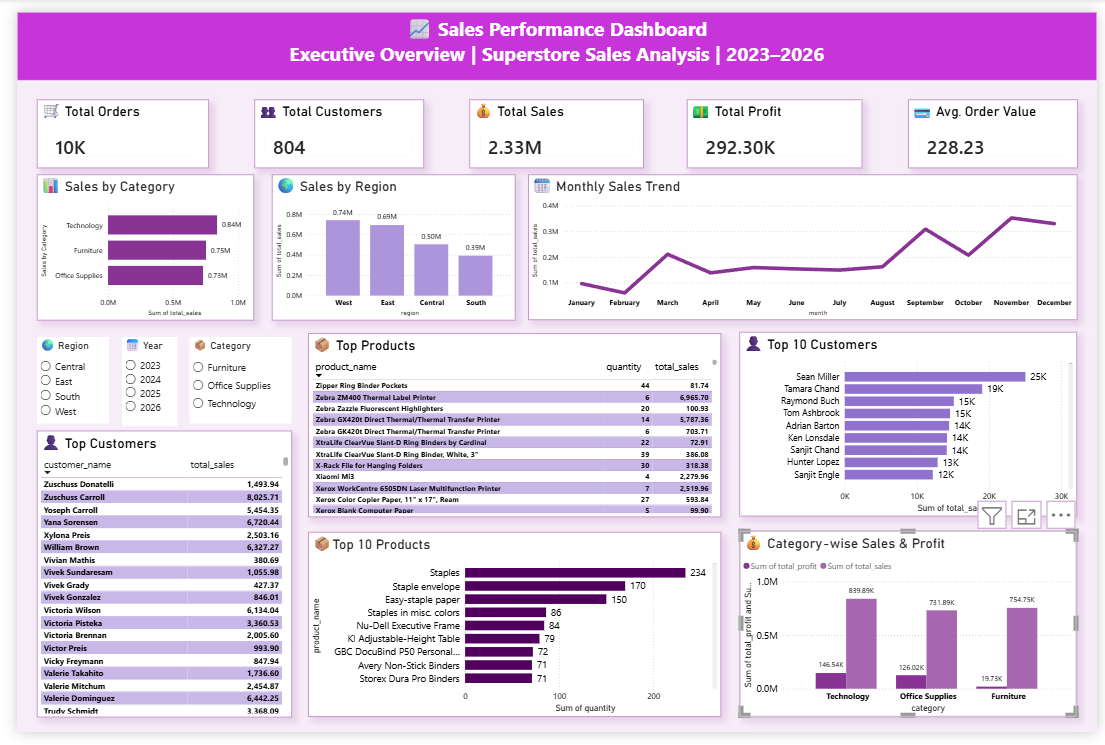

The page's visual inventory and layout, read from the dashboard file:
{"tool":"powerbi","page":{"name":"Executive Dashboard","canvas":[1800,1200],"ordinal":0},"visuals":[{"type":"cardVisual","title":"🛒 Total Orders","fields":{"Data":["Sum(public vw_kpi_summary.total_orders)"]},"box":[32.5,145,286,114],"z":0},{"type":"cardVisual","title":"👥 Total Customers","fields":{"Data":["Sum(public vw_kpi_summary.total_customers)"]},"box":[395,145,282,114],"z":1000},{"type":"cardVisual","title":"💰 Total Sales","fields":{"Data":["Sum(public vw_kpi_summary.total_sales)"]},"box":[755,145,290,114],"z":2000},{"type":"cardVisual","title":"💵 Total Profit","fields":{"Data":["Sum(public vw_kpi_summary.total_profit)"]},"box":[1117.5,145,292,114],"z":3000},{"type":"cardVisual","title":"💳 Avg. Order Value","fields":{"Data":["Sum(public vw_kpi_summary.average_order_value)"]},"box":[1485,145,282,114],"z":4000},{"type":"clusteredBarChart","title":"📊 Sales by Category","fields":{"Category":["public vw_category_sales.category"],"Y":["Sum(public vw_category_sales.total_sales)"]},"box":[32.5,270,361.4,242.9],"z":5000},{"type":"clusteredColumnChart","title":"🌍 Sales by Region","fields":{"Category":["public vw_region_sales.region"],"Y":["Sum(public vw_region_sales.total_sales)"]},"box":[425,270,405.7,242.9],"z":6000},{"type":"lineChart","title":"🗓️ Monthly Sales Trend","fields":{"Category":["public vw_monthly_sales.month"],"Y":["Sum(public vw_monthly_sales.total_sales)"]},"box":[852.5,270,915,242.5],"z":7000},{"type":"textbox","box":[0,0,1800,114],"z":8000},{"type":"listSlicer","title":"🌍 Region","fields":{"Values":["public vw_region_sales.region"]},"box":[32.5,542.5,120,144],"z":9000},{"type":"listSlicer","title":"📦 Category","fields":{"Values":["public vw_category_sales.category"]},"box":[287.5,542.5,170,144],"z":10000},{"type":"tableEx","title":"👤 Top Customers","fields":{"Values":["public vw_customer_ranking.customer_name","public vw_customer_ranking.total_sales"]},"box":[32.5,697.5,425,477.5],"z":11000},{"type":"tableEx","title":"📦 Top Products","fields":{"Values":["public vw_product_sales.product_name","public vw_product_sales.quantity","public vw_product_sales.total_sales"]},"box":[485,535,688,306],"z":12000},{"type":"clusteredBarChart","title":"👤 Top 10 Customers","fields":{"Y":["Sum(public vw_customer_ranking.total_sales)"],"Category":["public vw_customer_ranking.customer_name"]},"box":[1205,532.5,562.5,307.5],"z":13000},{"type":"clusteredBarChart","title":"📦Top 10 Products","fields":{"Category":["public vw_product_sales.product_name"],"Y":["Sum(public vw_product_sales.quantity)"]},"box":[485,867.5,688,308],"z":14000},{"type":"clusteredColumnChart","title":"💰 Category-wise Sales & Profit","fields":{"Category":["public vw_category_sales.category"],"Y":["Sum(public vw_category_sales.total_profit)","Sum(public vw_category_sales.total_sales)"]},"box":[1205,865,562,310],"z":15000},{"type":"listSlicer","title":"📅 Year","fields":{"Values":["public sales.order_date.Variation.Date Hierarchy.Year"]},"box":[175,542.5,92,148],"z":16000}]}

Visuals, with their boxes in screenshot pixels (x1, y1, x2, y2), scaled from the page's 1800x1200 canvas onto the 1105x745 screenshot:
"🛒 Total Orders" cardVisual: pyautogui.locateOnScreen(20, 90, 196, 161)
"👥 Total Customers" cardVisual: pyautogui.locateOnScreen(242, 90, 416, 161)
"💰 Total Sales" cardVisual: pyautogui.locateOnScreen(463, 90, 642, 161)
"💵 Total Profit" cardVisual: pyautogui.locateOnScreen(686, 90, 865, 161)
"💳 Avg. Order Value" cardVisual: pyautogui.locateOnScreen(912, 90, 1085, 161)
"📊 Sales by Category" clusteredBarChart: pyautogui.locateOnScreen(20, 168, 242, 318)
"🌍 Sales by Region" clusteredColumnChart: pyautogui.locateOnScreen(261, 168, 510, 318)
"🗓️ Monthly Sales Trend" lineChart: pyautogui.locateOnScreen(523, 168, 1085, 318)
textbox: pyautogui.locateOnScreen(0, 0, 1104, 71)
"🌍 Region" listSlicer: pyautogui.locateOnScreen(20, 337, 94, 426)
"📦 Category" listSlicer: pyautogui.locateOnScreen(176, 337, 281, 426)
"👤 Top Customers" tableEx: pyautogui.locateOnScreen(20, 433, 281, 729)
"📦 Top Products" tableEx: pyautogui.locateOnScreen(298, 332, 720, 522)
"👤 Top 10 Customers" clusteredBarChart: pyautogui.locateOnScreen(740, 331, 1085, 522)
"📦Top 10 Products" clusteredBarChart: pyautogui.locateOnScreen(298, 539, 720, 730)
"💰 Category-wise Sales & Profit" clusteredColumnChart: pyautogui.locateOnScreen(740, 537, 1085, 729)
"📅 Year" listSlicer: pyautogui.locateOnScreen(107, 337, 164, 429)
